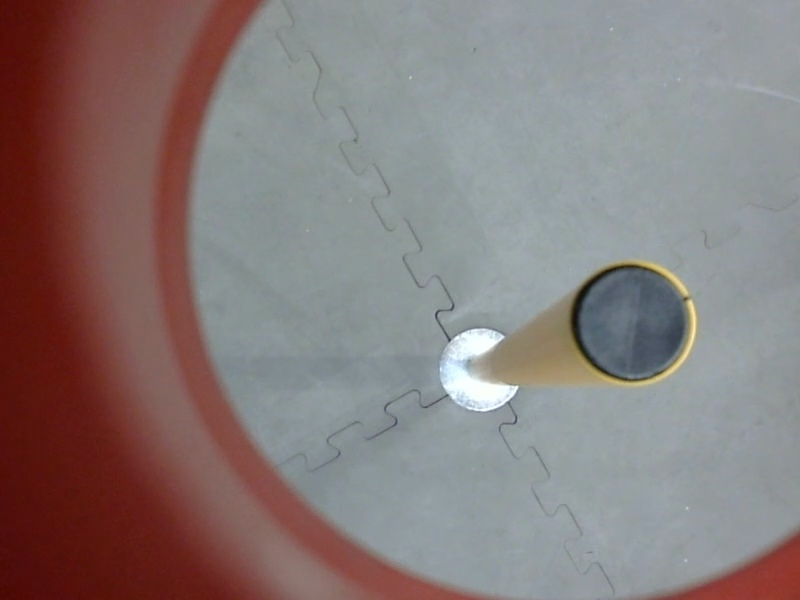tip: (557, 254, 704, 398)
